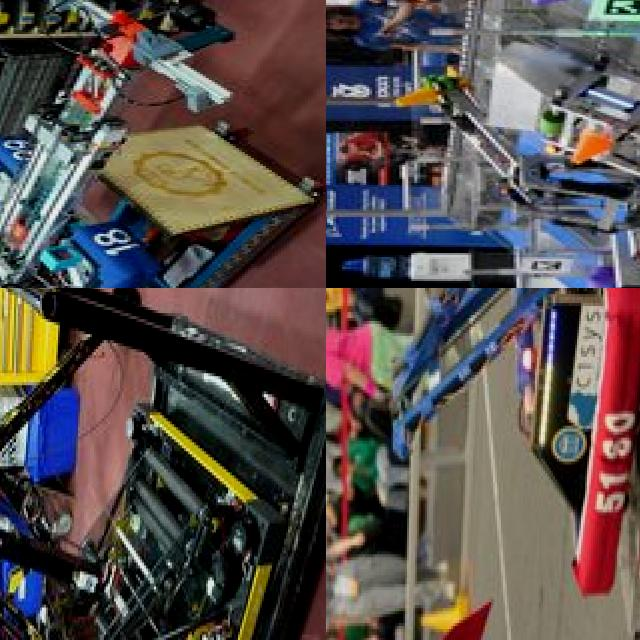FRC-Robots: (0, 288, 326, 640), (326, 288, 640, 604), (0, 0, 248, 288), (391, 67, 640, 288), (477, 0, 640, 240)
